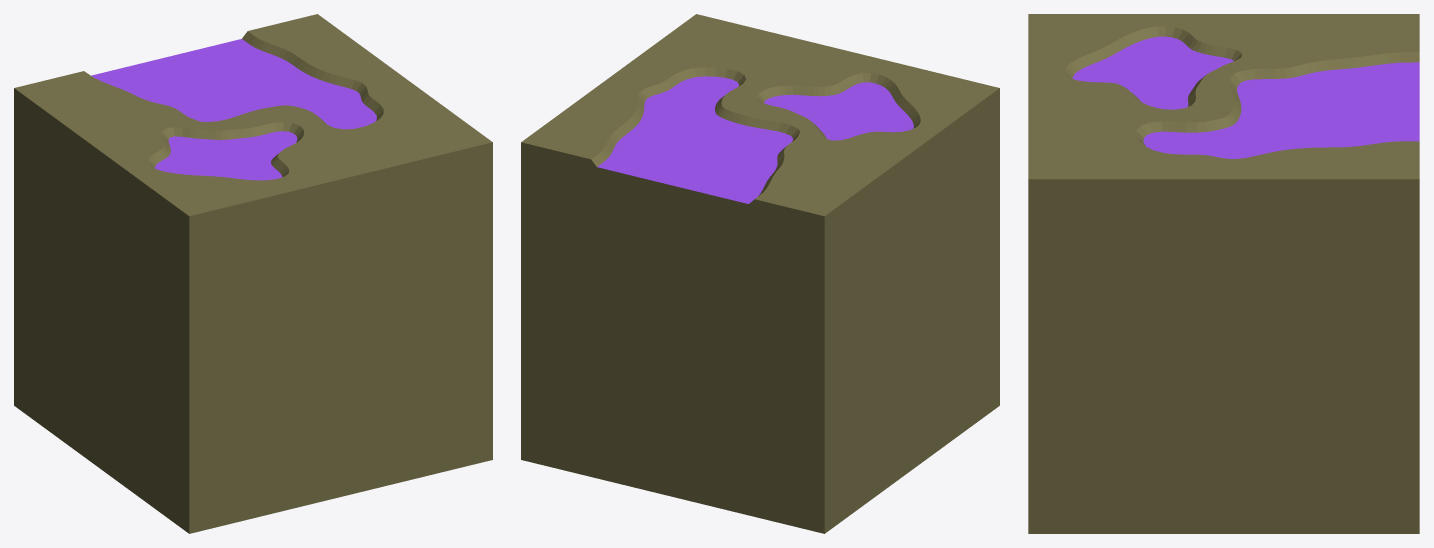
File: tile_toxic_2_03.fbx
The picture shows the model from 3 angles, left to right: view 1: azimuth 30°, elevation 25°; view 2: azimuth 150°, elevation 25°; view 3: azimuth 270°, elevation 25°; orthographic projection. The views are drawn at different scales.
Visible parts, largest first — view 1: tile_toxic_2_03; view 2: tile_toxic_2_03; view 3: tile_toxic_2_03.
Part boxes in pixels (x1,y1,x2,y2): tile_toxic_2_03: (14,14,492,533); tile_toxic_2_03: (521,14,999,533); tile_toxic_2_03: (1028,14,1419,533).
Bounding box in the file's own units: 100 × 100 × 100.
